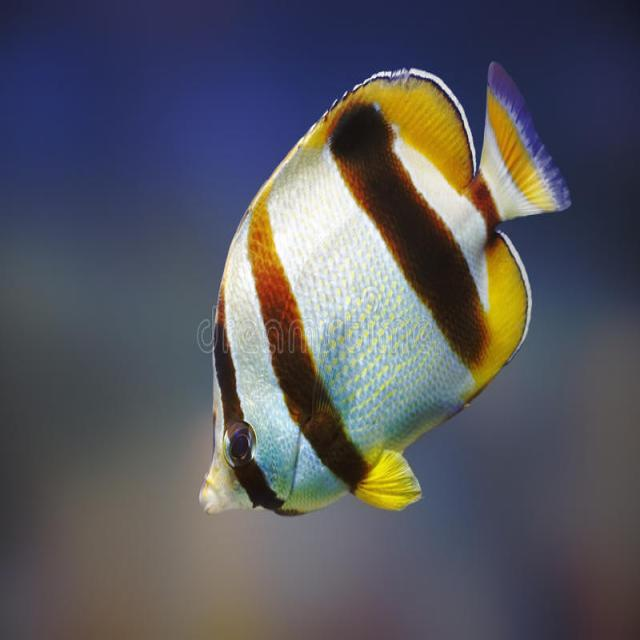ButterflyFish: (197, 59, 570, 519)
